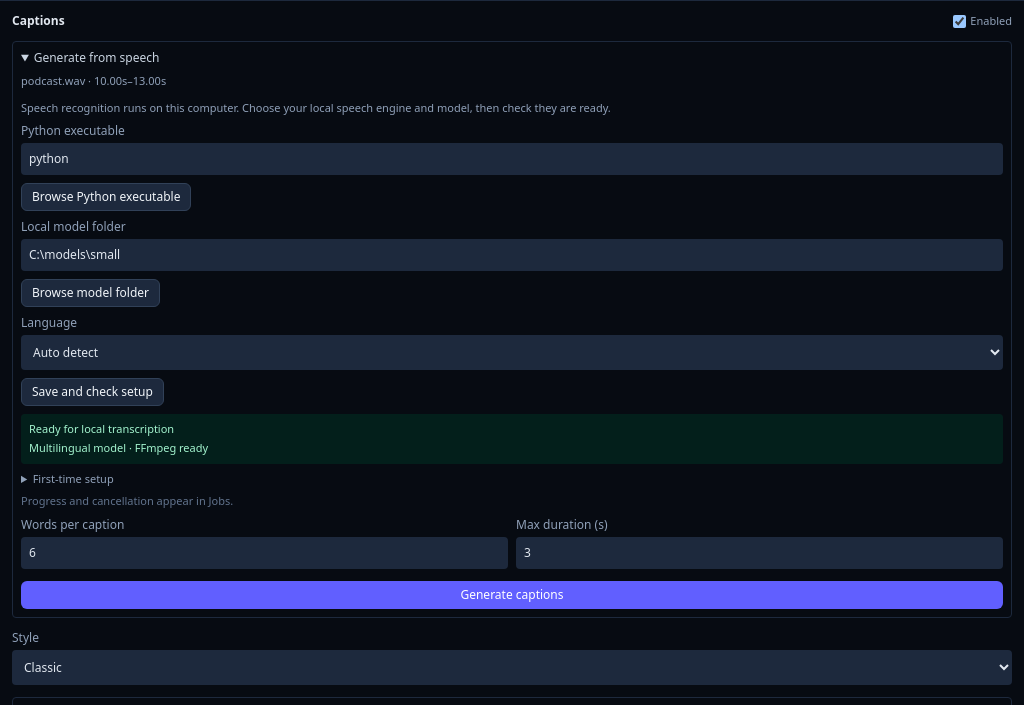
Test: CaptionDesigner generation › rechecks the snapshot when applying a reviewed result
Click the button "Generate captions": (512, 595) [21, 581, 1003, 609]
(page scrolled)
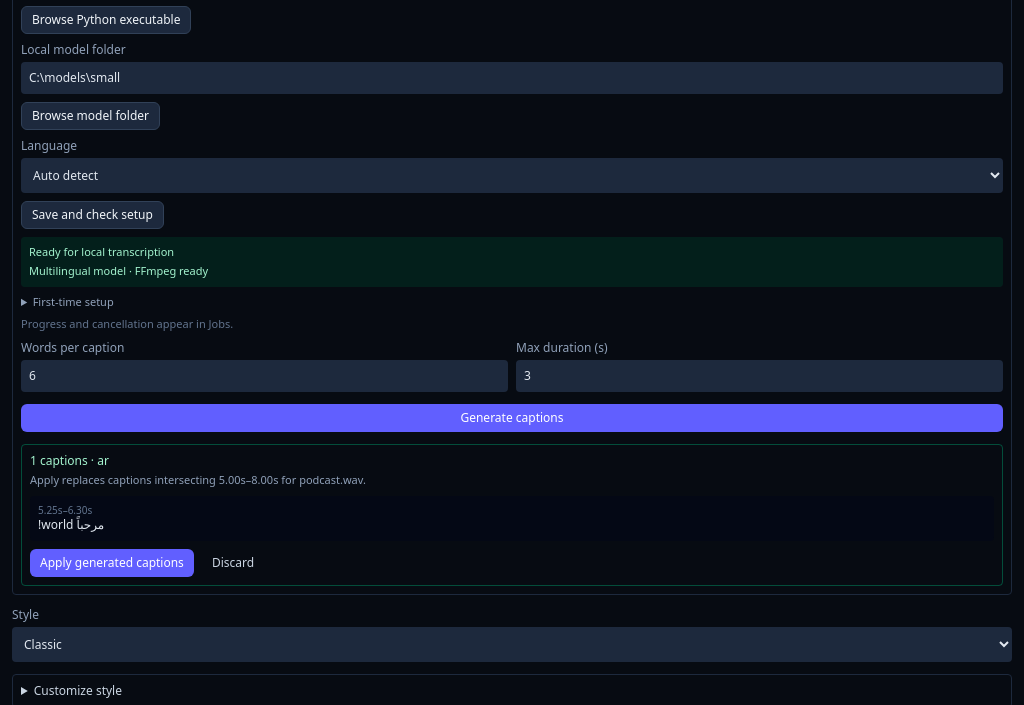
Now the button "Apply generated captions" is shown, box [30, 549, 194, 577]
Select "Arabic Viral" in the dropdown named "Caption style": (512, 644) [12, 627, 1012, 662]
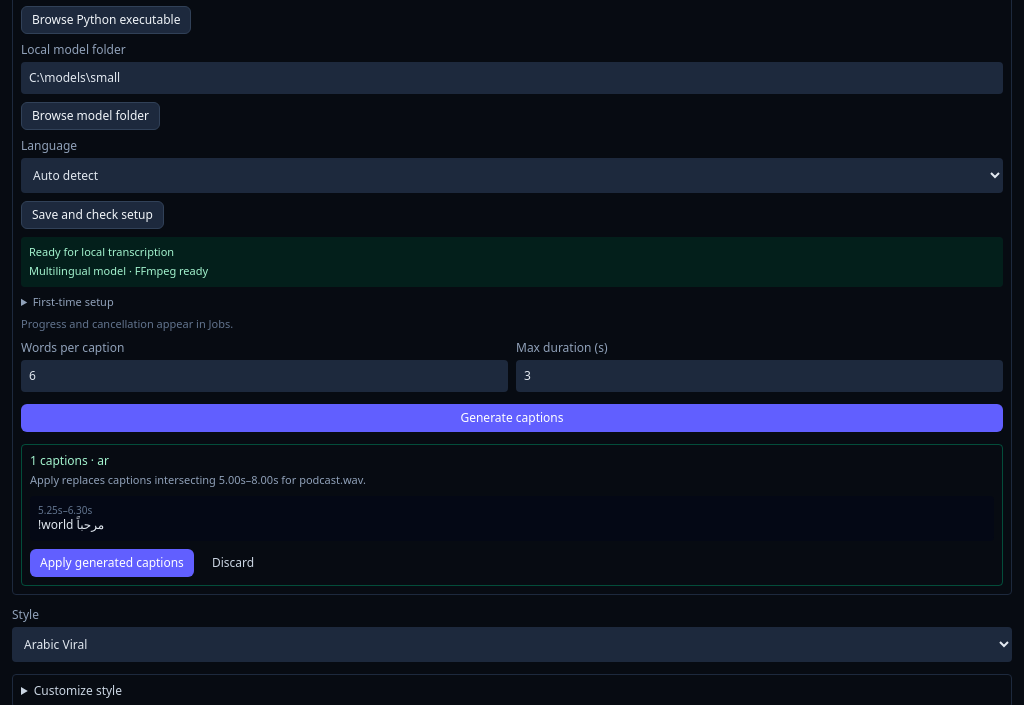
Click the button "Apply generated captions": (112, 563) [30, 549, 194, 577]
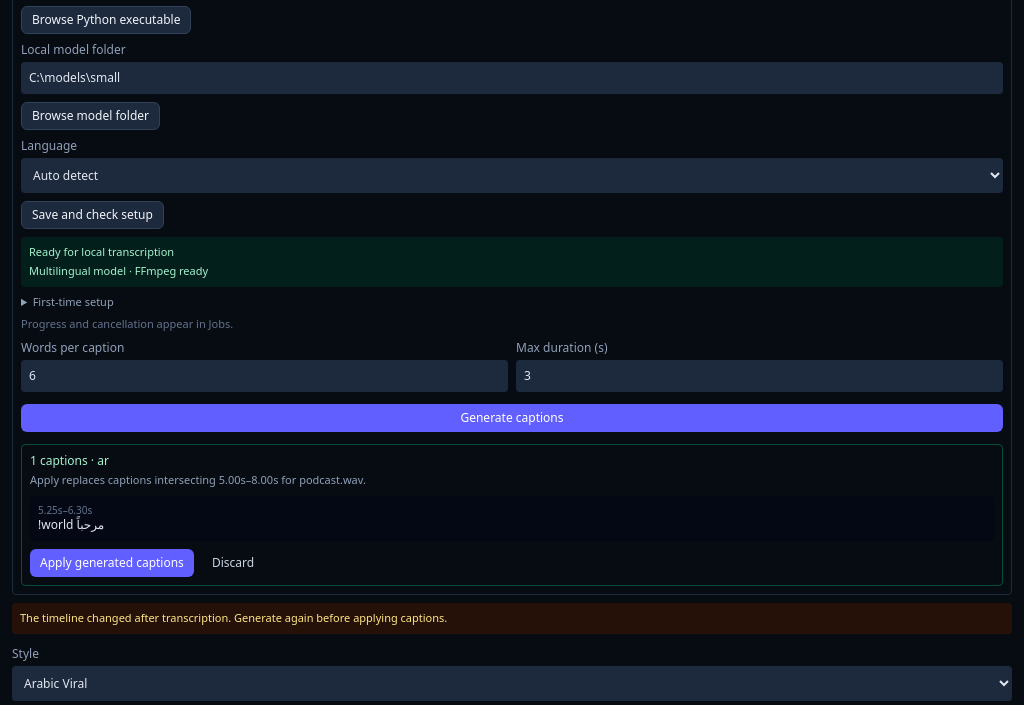
Now the 2nd message shows "timeline changed after transcription", box [20, 610, 447, 625]
